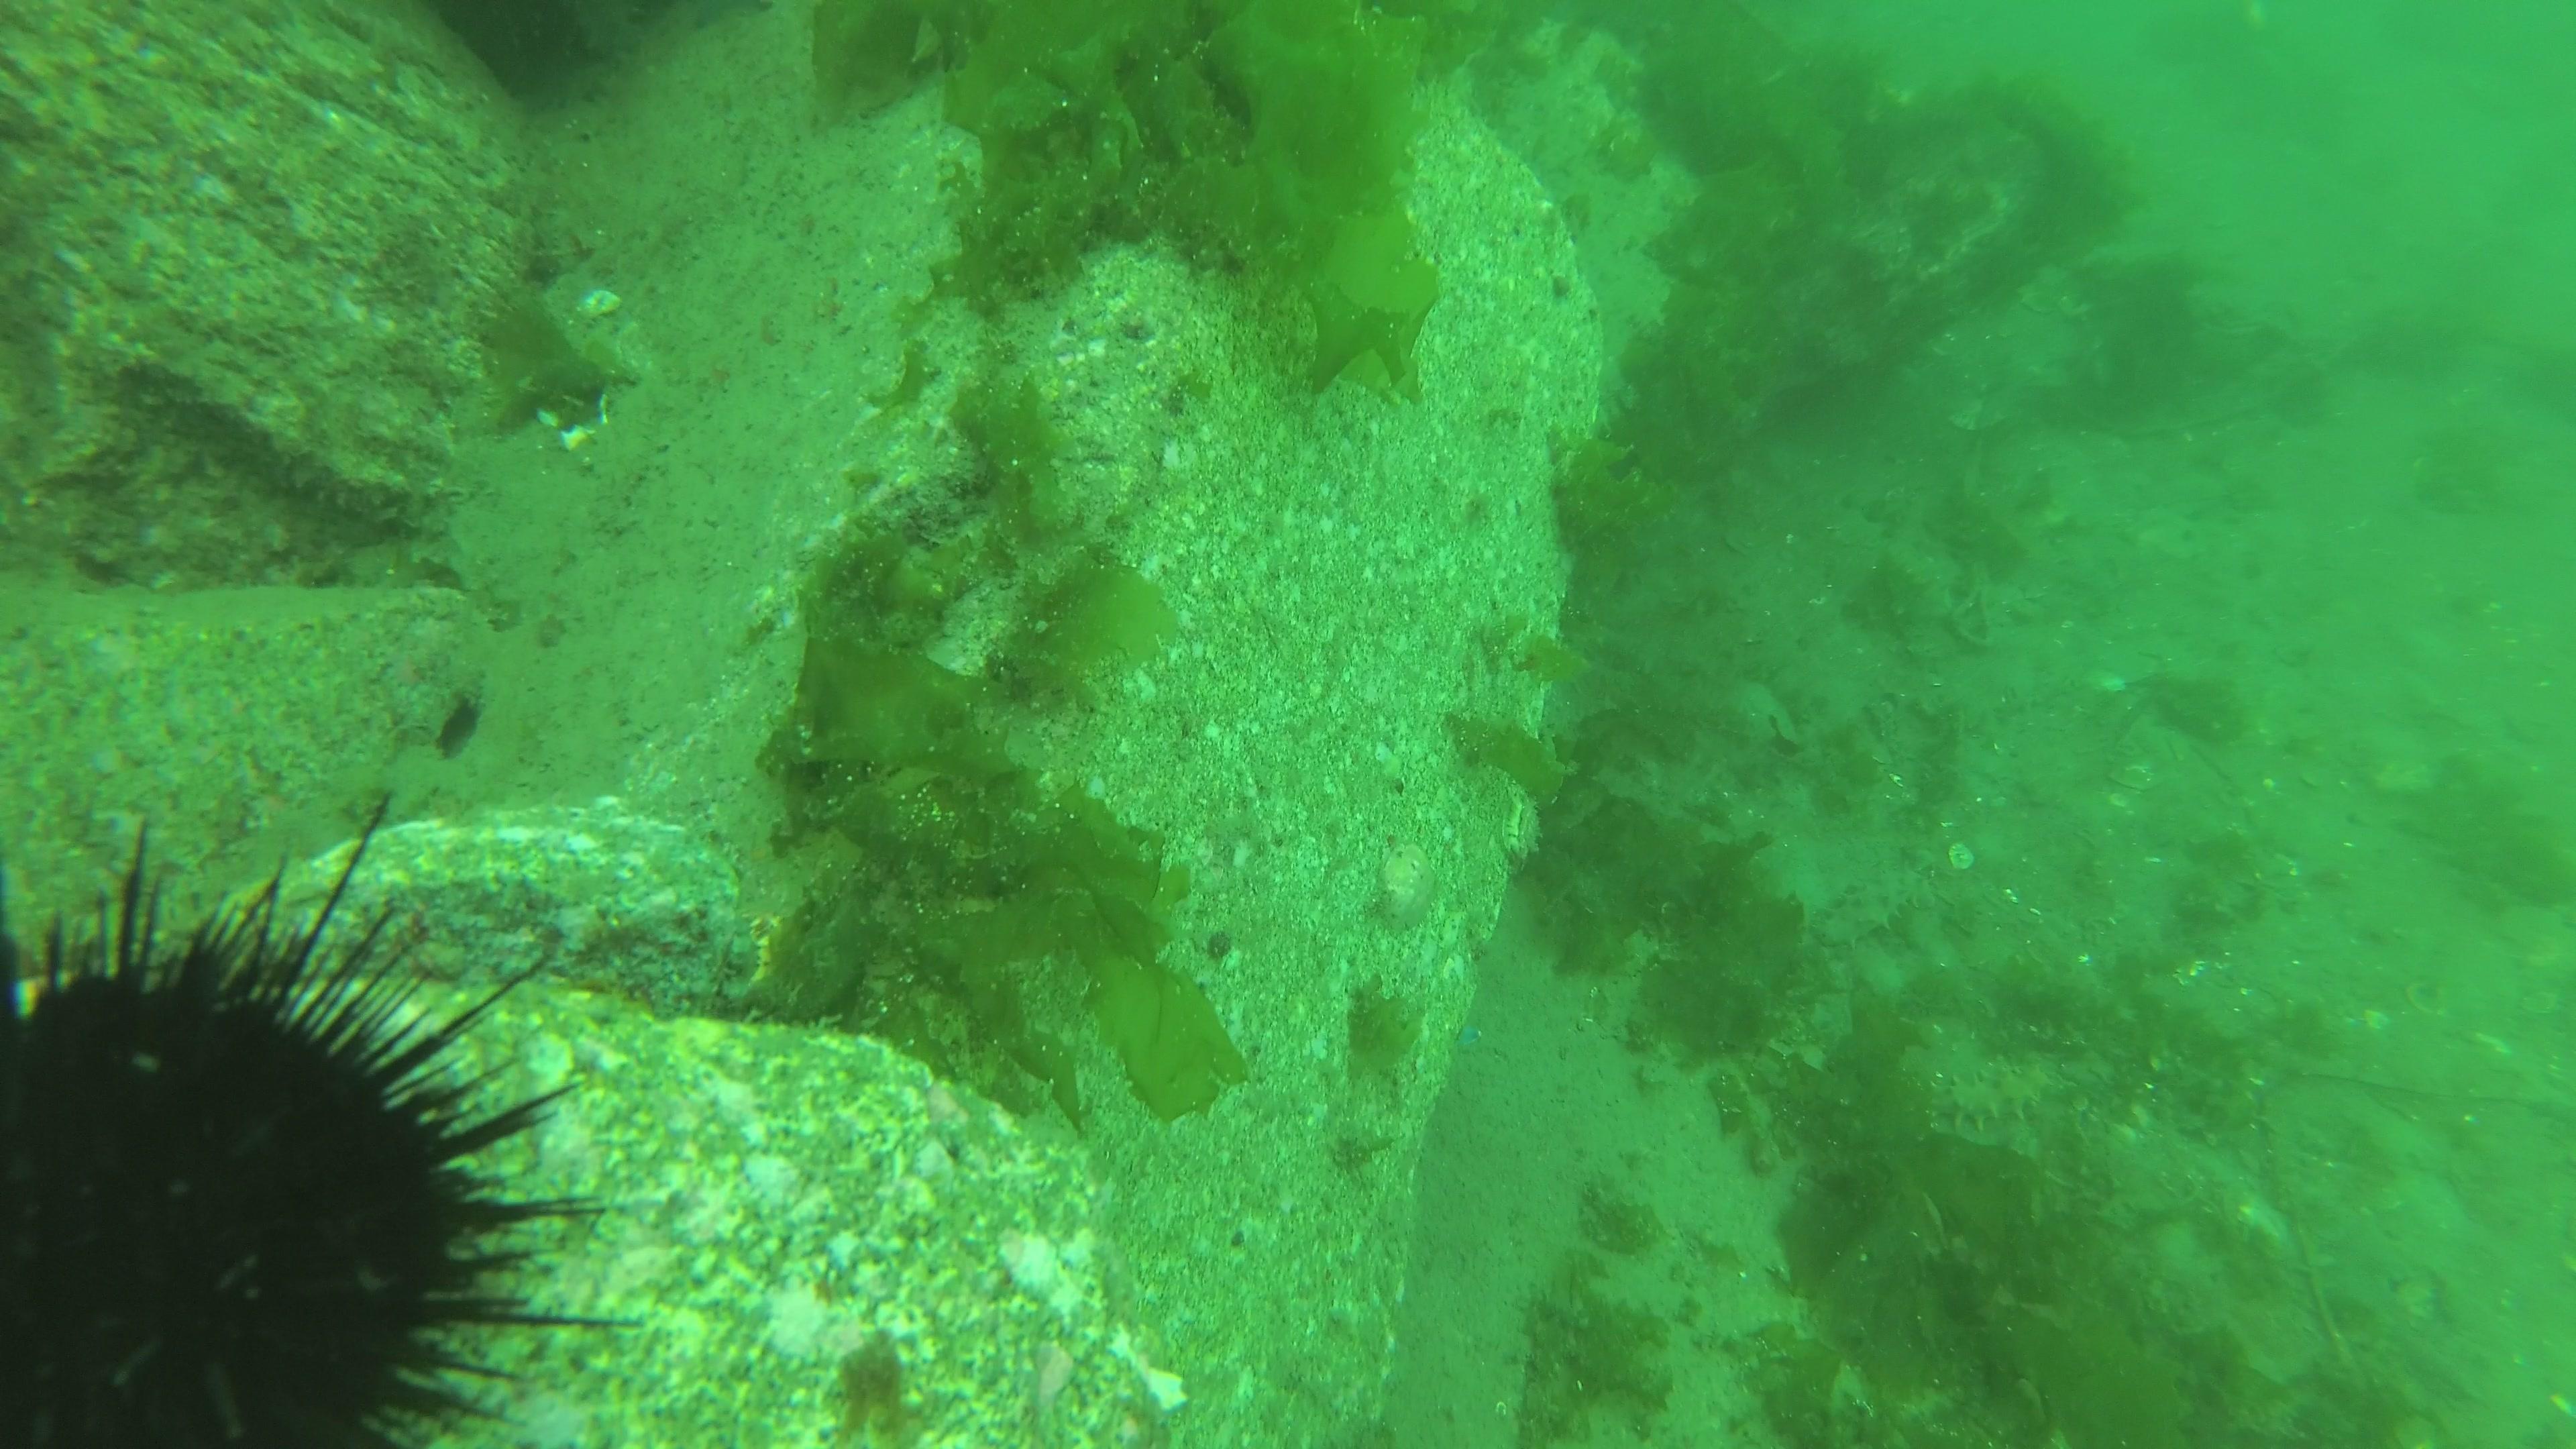echinus: (9, 800, 653, 1449)
holothurian: (1815, 853, 1936, 954), (1921, 1049, 2058, 1134)
